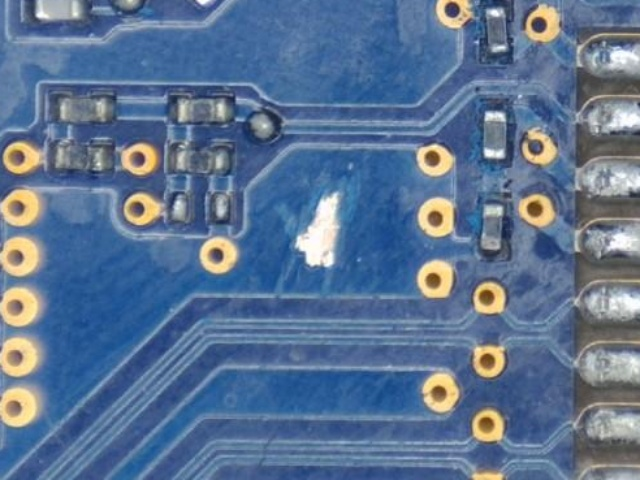pcb_defect: (294, 193, 340, 266), (577, 342, 640, 388), (578, 218, 640, 264), (577, 404, 640, 449), (580, 34, 640, 80), (579, 281, 640, 326), (577, 157, 640, 199), (579, 96, 640, 138), (576, 466, 640, 480), (577, 480, 640, 480)
